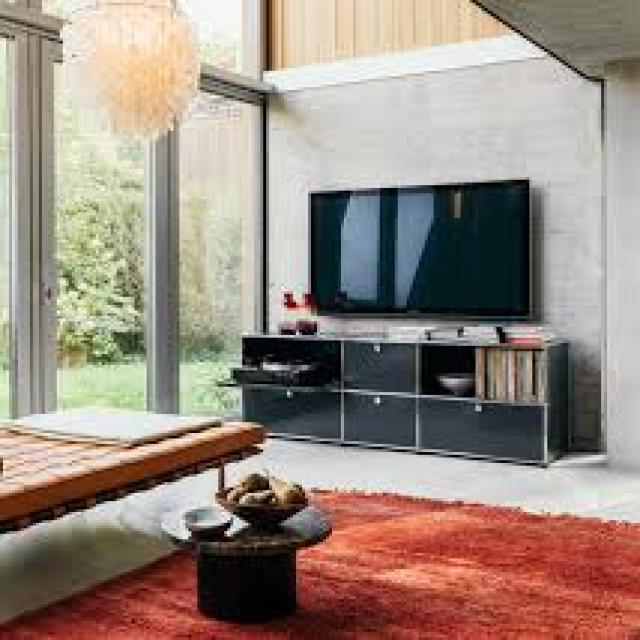Sofa: (0, 405, 261, 559)
Table: (177, 495, 333, 625)
